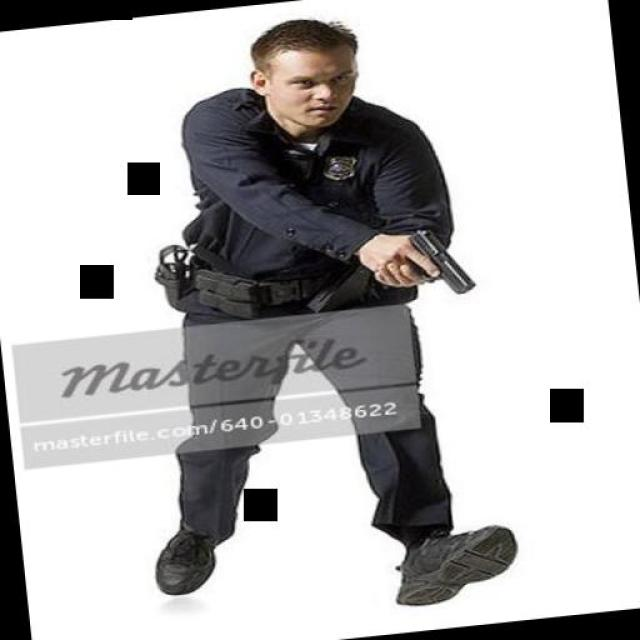gun: (374, 216, 470, 304)
